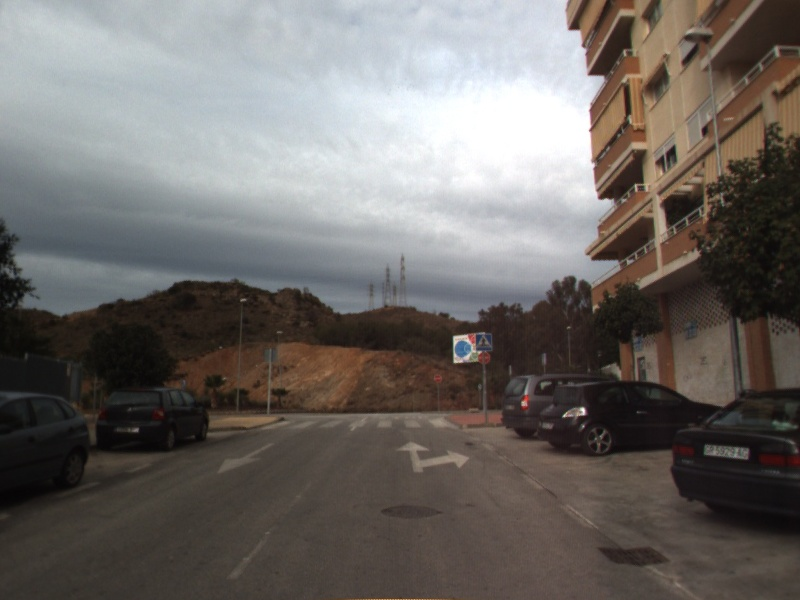STRAIGHT_RIGHT: (393, 438, 472, 474)
